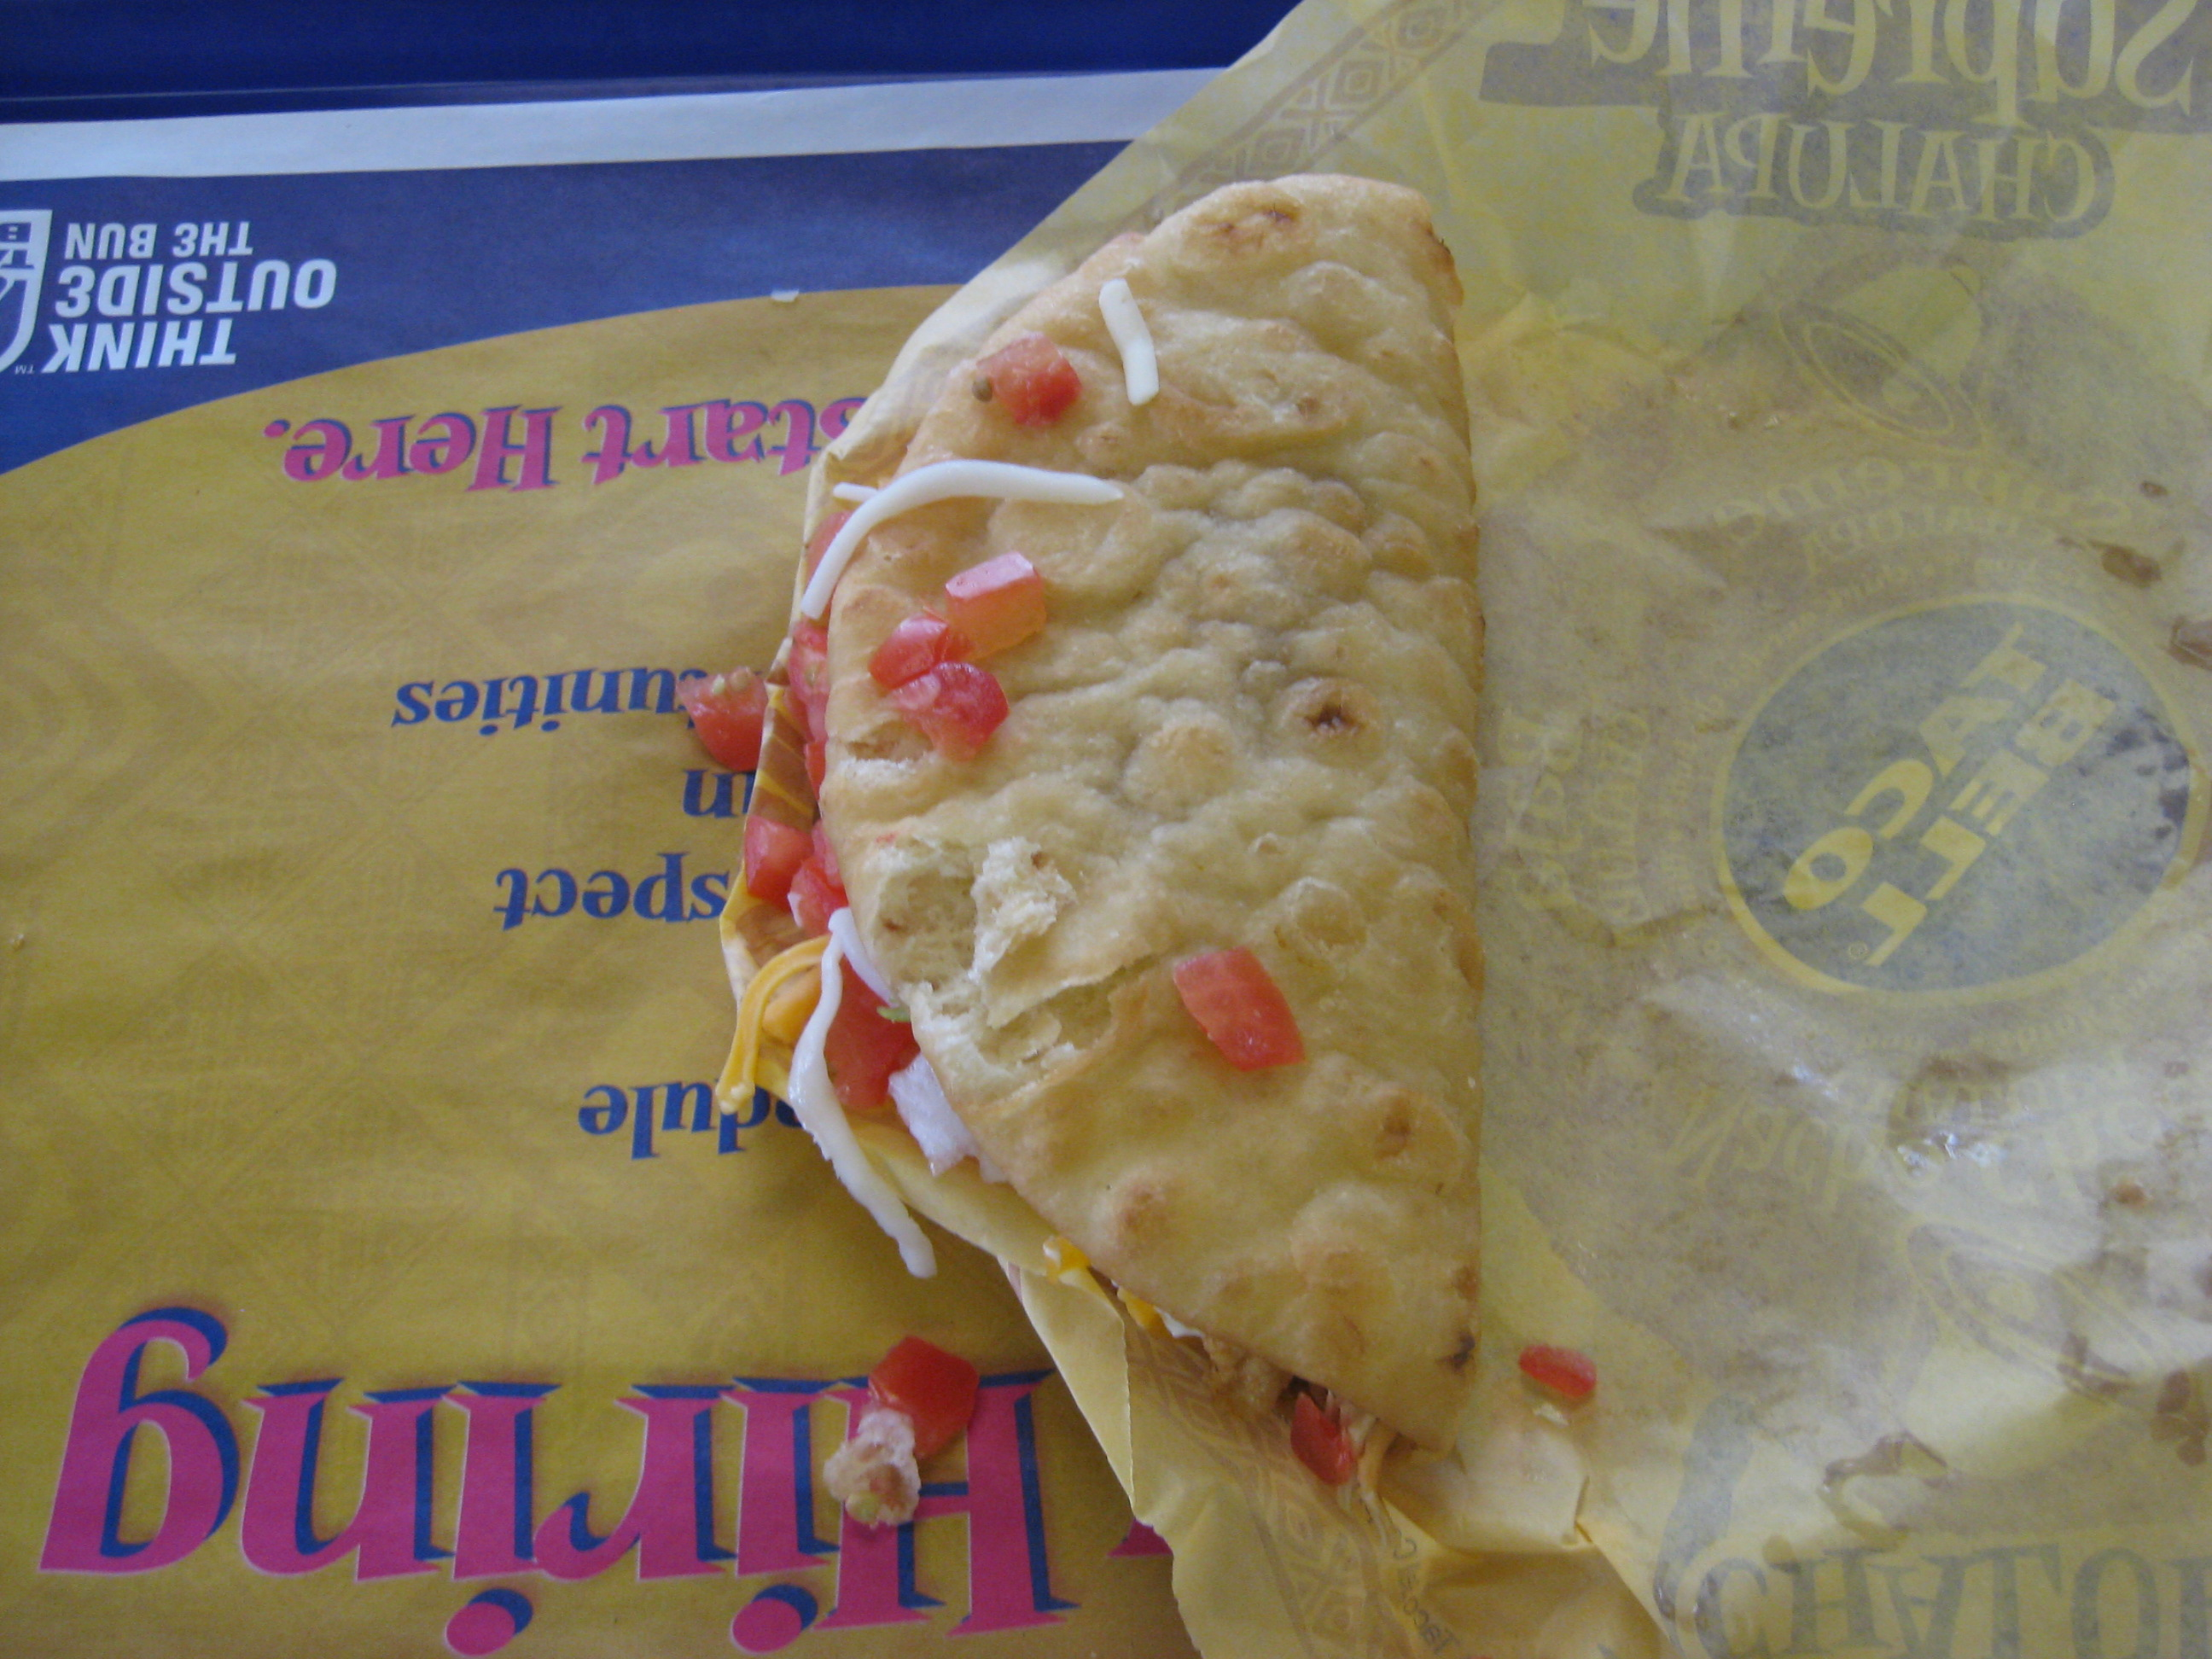taco: (737, 236, 1629, 1522)
